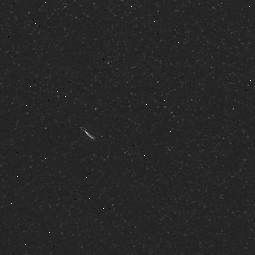debris: (73, 125, 104, 144)
